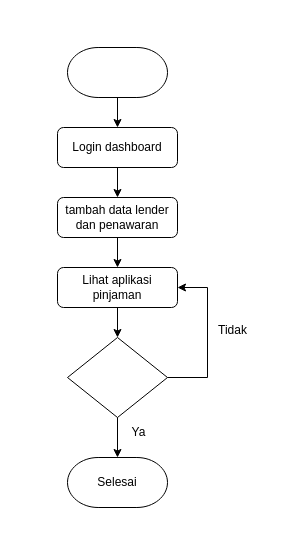
Some shapes in this 284 by 554 pixel diagram are drawn without their labels. Here are the shapes that lost their labels. From the top down, the centre of each, then its label:
At (117,72): "Mulai".
At (117,377): "Approve pengajuan?".
